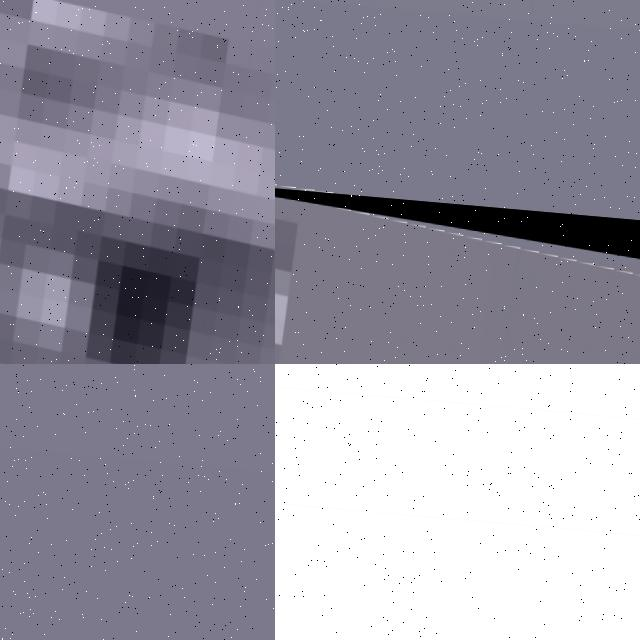drone: (0, 0, 275, 364), (275, 179, 640, 364)
